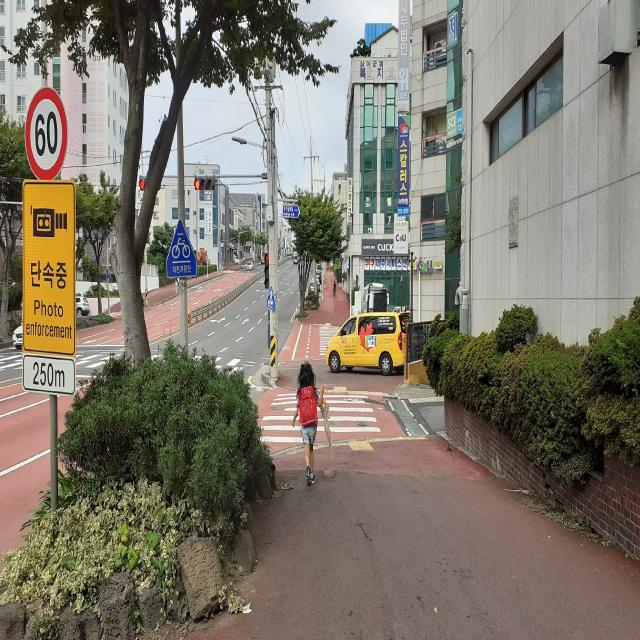횡단보도: (256, 392, 382, 443)
